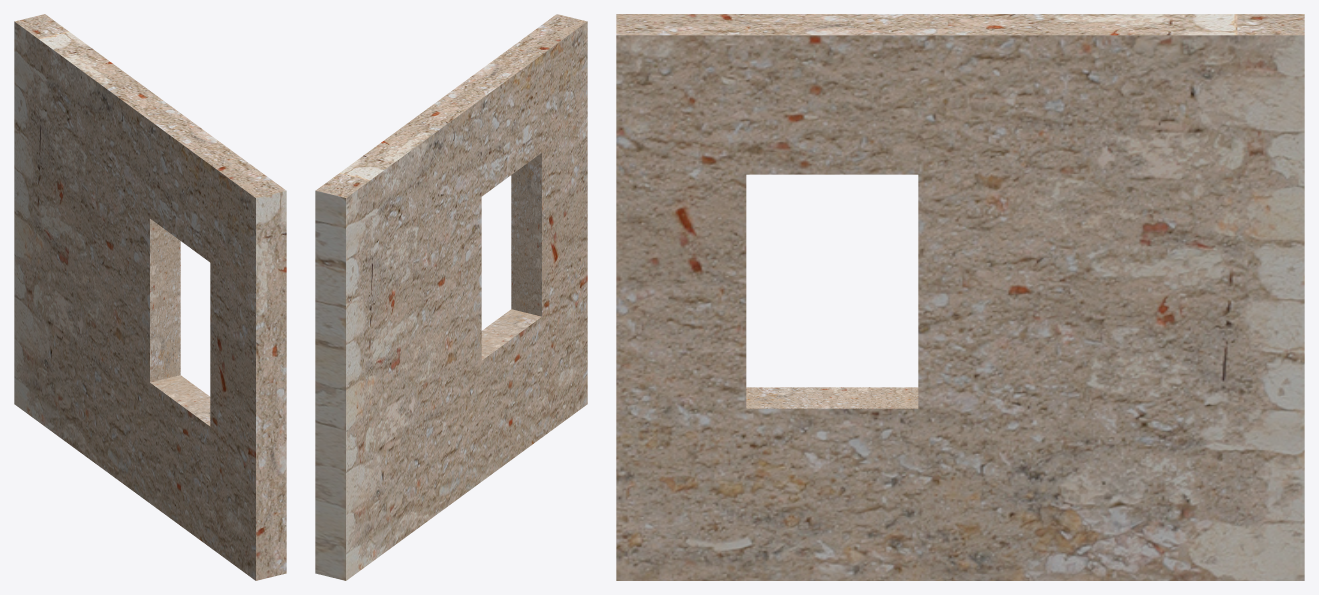
The model's file is OldHouseStoneWallLargeWindow.obj.
3 views of the same model, side by side, from view 1: azimuth 30°, elevation 25°; view 2: azimuth 150°, elevation 25°; view 3: azimuth 270°, elevation 25° (orthographic). The views are drawn at different scales.
Parts seen in each view (by area): view 1: Box02; view 2: Box02; view 3: Box02.
Boxes of the visible parts, x1,y1,x2,y2 form: Box02: [14, 14, 286, 580]; Box02: [315, 14, 587, 580]; Box02: [616, 14, 1304, 580].
Bounding box in the file's own units: 0.2933 × 3.5 × 4.
Materials: 1 (1 with a texture image).
